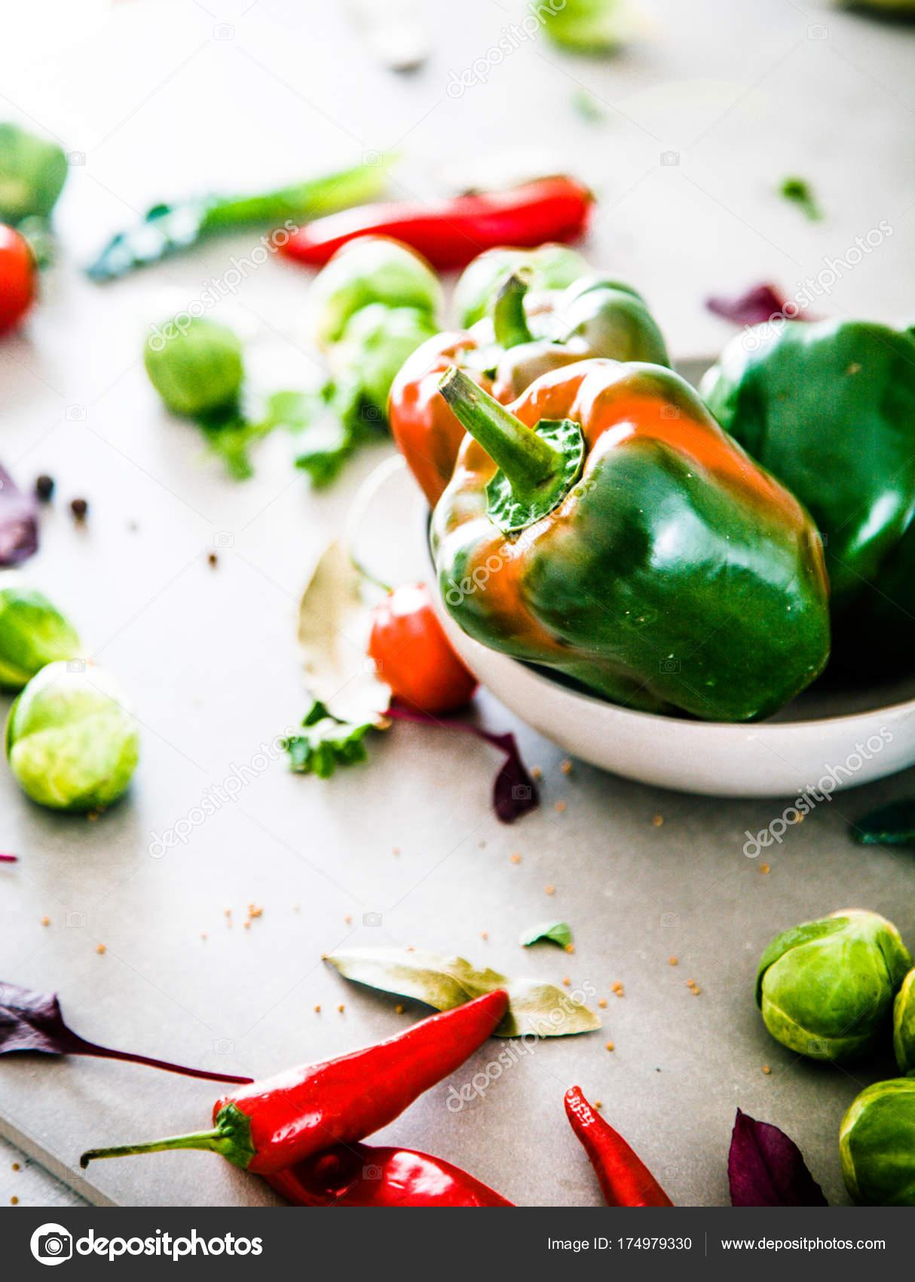bell pepper: (410, 254, 859, 701)
